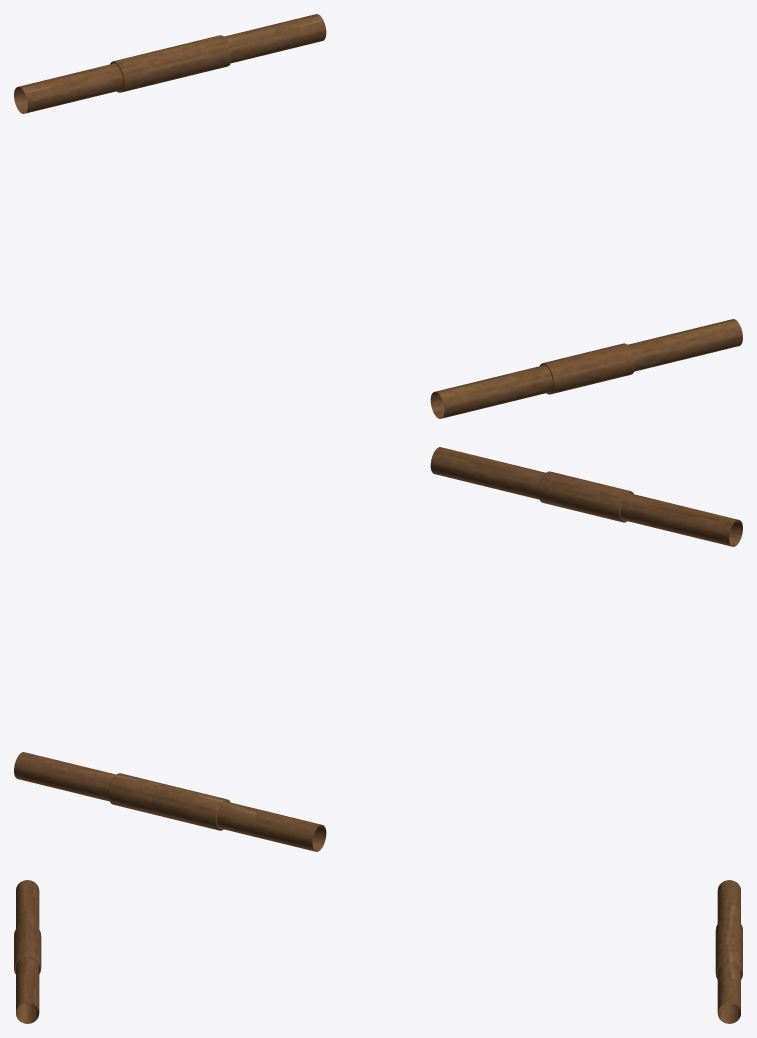
File: bottom_cylinders.gltf
3 renders of one model, top to bottom at view 1: azimuth 30°, elevation 25°; view 2: azimuth 150°, elevation 25°; view 3: azimuth 270°, elevation 25°, orthographic. The views are drawn at different scales.
Parts seen in each view (by area): view 1: bottom_cylinders; view 2: bottom_cylinders; view 3: bottom_cylinders.
Boxes of the visible parts, box(x1,y1,x2,y2) form: bottom_cylinders: box(14, 14, 742, 418); bottom_cylinders: box(14, 447, 742, 851); bottom_cylinders: box(14, 880, 742, 1023).
Size of the model in its own units: 0.4913 by 0.046 by 1.23.
Materials: 1 (1 with a texture image).
